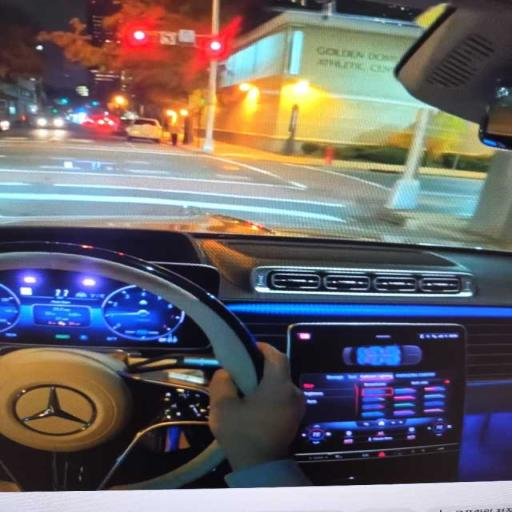car: (0, 0, 511, 510), (126, 118, 163, 142), (82, 115, 118, 133), (32, 116, 67, 129), (0, 119, 10, 131)
lane: (0, 131, 399, 228), (0, 131, 304, 188)
person: (210, 344, 311, 487)
